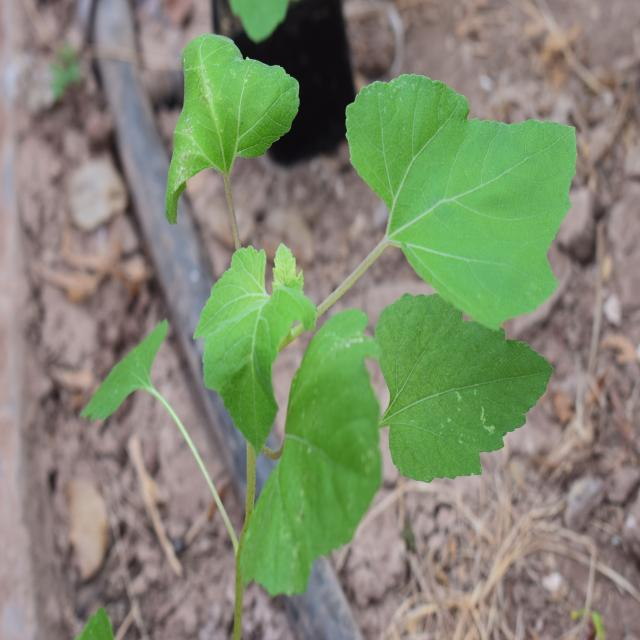cocklebur: (106, 52, 584, 574)
